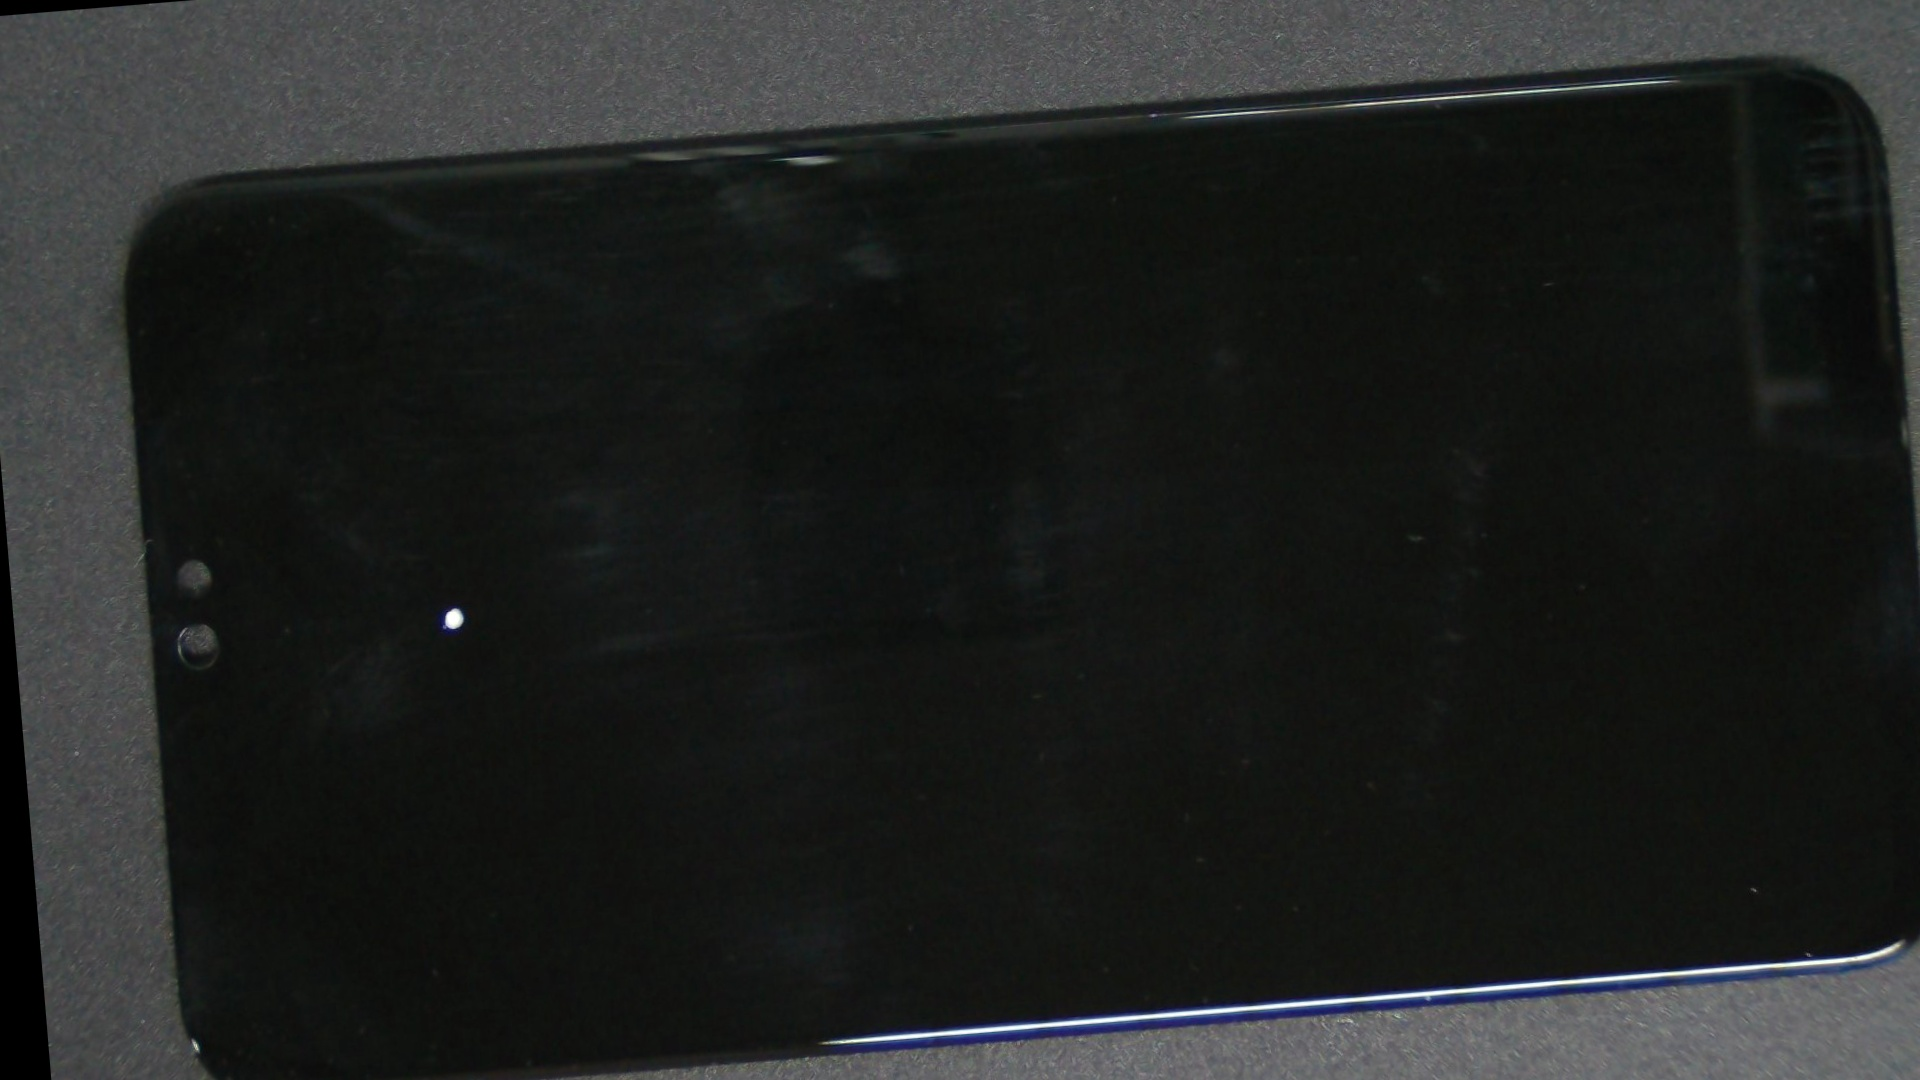oil: (211, 276, 703, 938)
